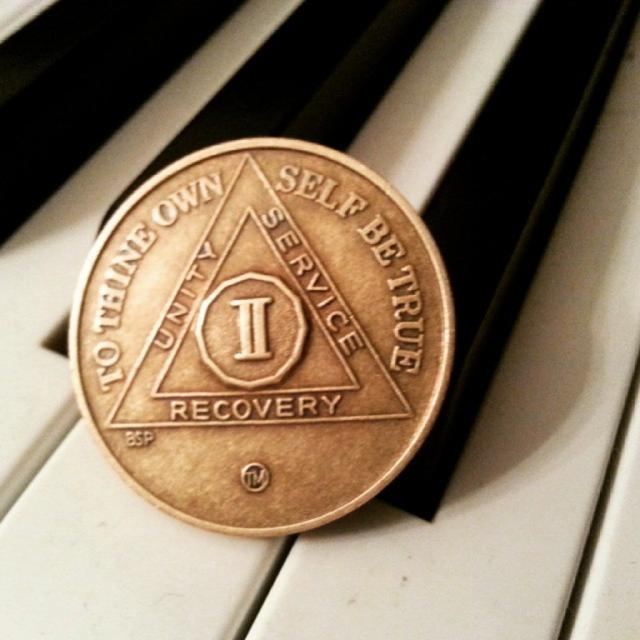Coin: (67, 138, 457, 542)
